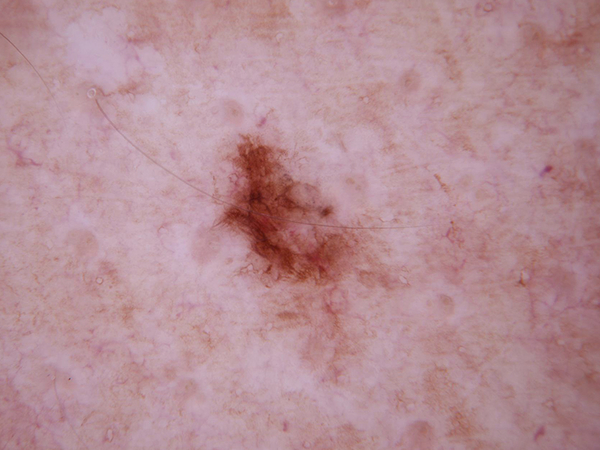Detected Lesion: (212, 122, 371, 298)
